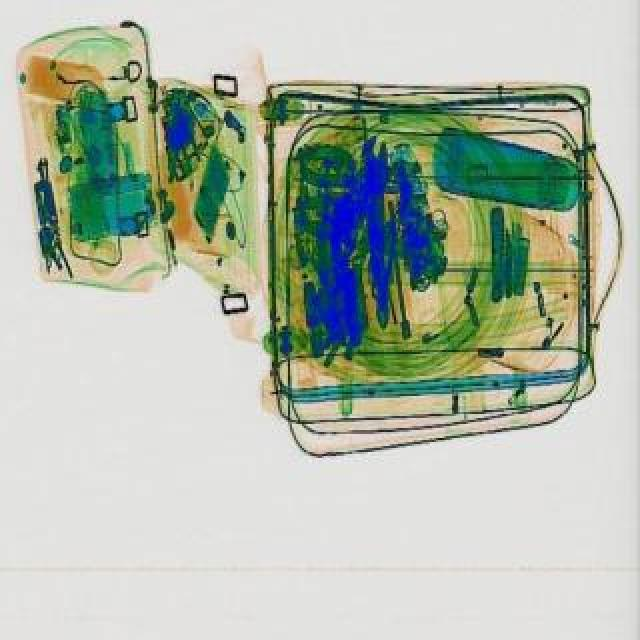wrench: (370, 204, 404, 332)
